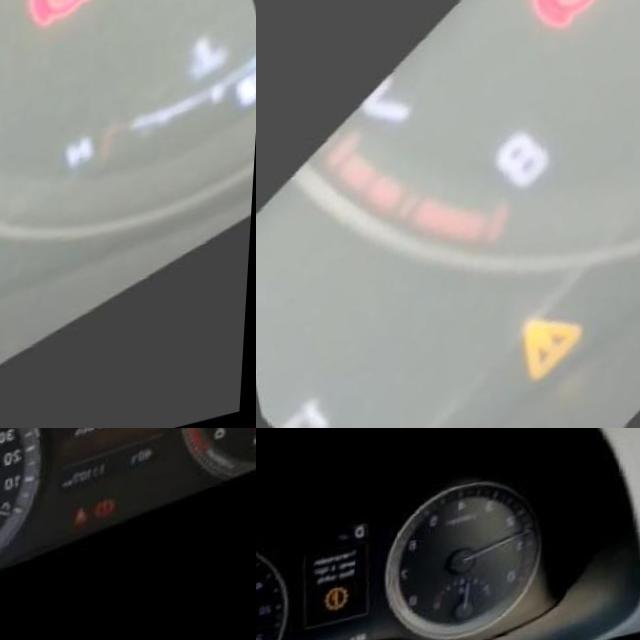Engine cooling system: (460, 611, 467, 620)
